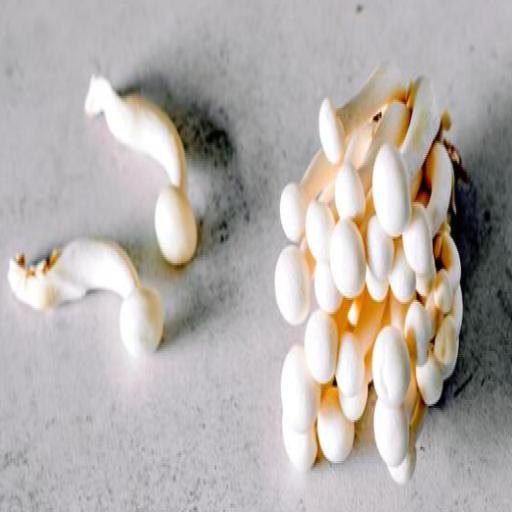Enoki Mushroom: (269, 10, 474, 480), (80, 40, 218, 268), (2, 215, 165, 384)
